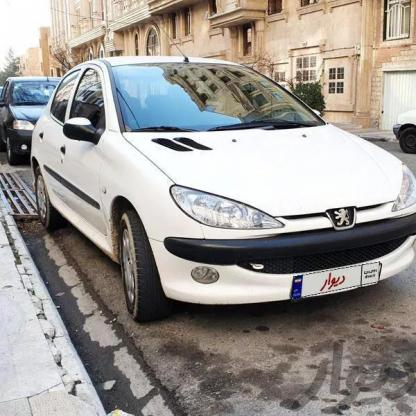Car: (24, 45, 416, 307), (0, 64, 60, 157), (395, 114, 416, 155)
